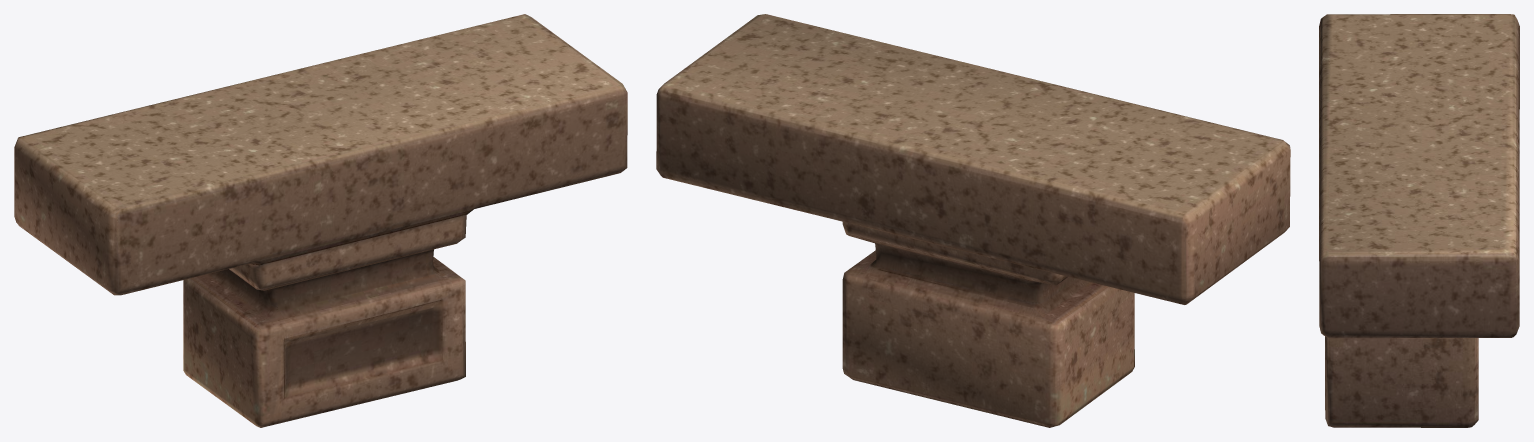
Rendered from bench_red_hd.glb.
The picture shows the model from 3 angles, left to right: view 1: azimuth 30°, elevation 25°; view 2: azimuth 150°, elevation 25°; view 3: azimuth 270°, elevation 25°; orthographic projection. The views are drawn at different scales.
Parts seen in each view (by area): view 1: bench_red_lod0; view 2: bench_red_lod0; view 3: bench_red_lod0.
Part boxes in pixels (x1,y1,x2,y2): bench_red_lod0: (14, 14, 627, 427); bench_red_lod0: (656, 14, 1290, 427); bench_red_lod0: (1319, 14, 1519, 427).
Bounding box in the file's own units: 0.98 × 0.47 × 0.34.
Materials: 1 (1 with a texture image).
